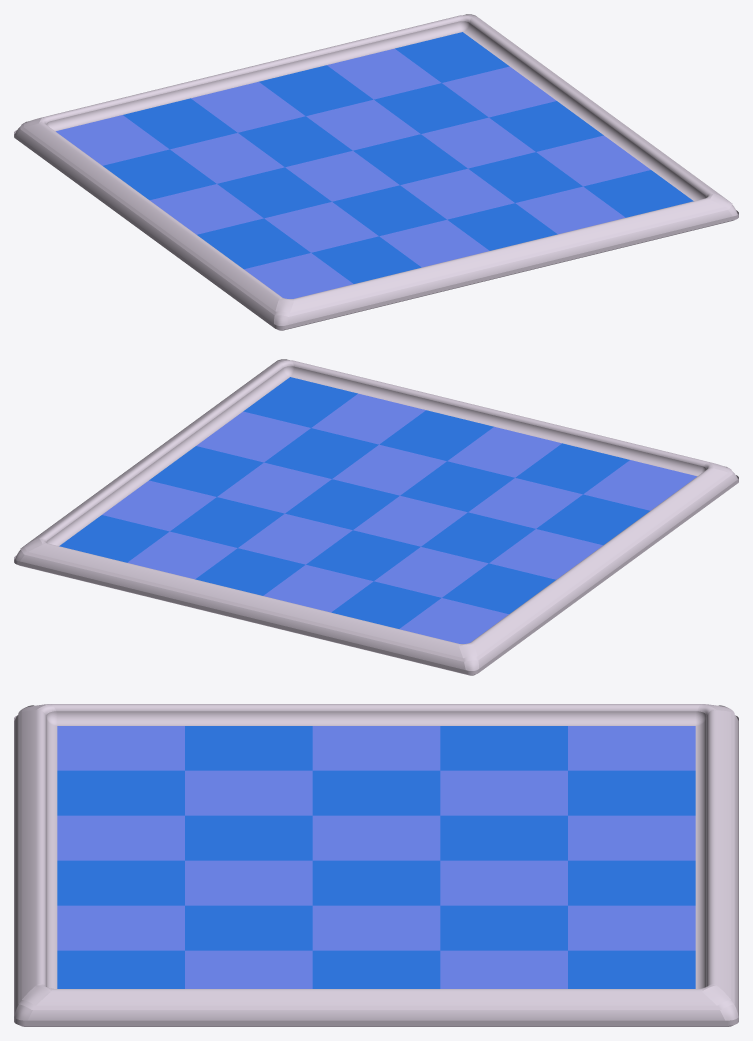
Rendered from tempat dadu 0.fbx.
3 views of the same model, one above another, from view 1: azimuth 30°, elevation 25°; view 2: azimuth 150°, elevation 25°; view 3: azimuth 270°, elevation 25° (orthographic). The views are drawn at different scales.
Parts seen in each view (by area): view 1: Plane; view 2: Plane; view 3: Plane.
Part boxes in pixels (left/top/right/bottom): Plane: left=14, top=14, right=738, bottom=330; Plane: left=14, top=359, right=738, bottom=675; Plane: left=14, top=704, right=738, bottom=1026.
Bounding box in the file's own units: 597 × 27.78 × 597.
